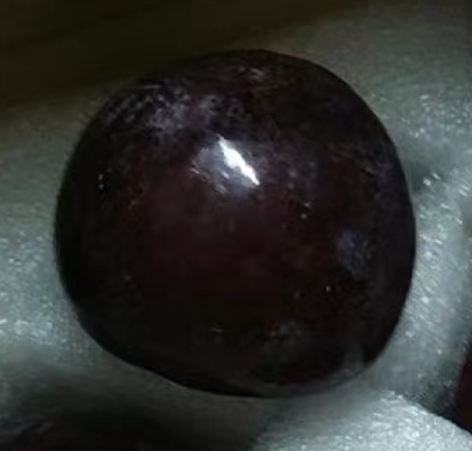plum_A: (54, 50, 417, 397)
